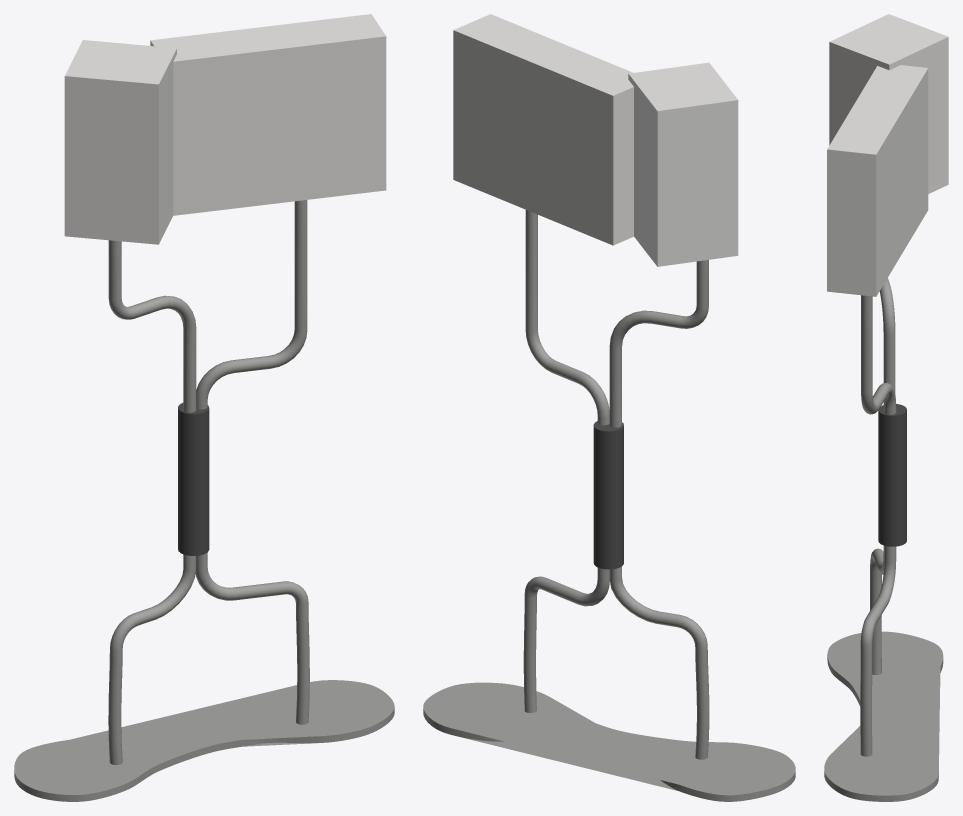
The model's file is A23DMOD_FBX.fbx.
3 renders of one model, left to right at view 1: azimuth 30°, elevation 25°; view 2: azimuth 150°, elevation 25°; view 3: azimuth 270°, elevation 25°, orthographic. The views are drawn at different scales.
Visible parts, largest first — view 1: A23DOBJ_001; view 2: A23DOBJ_001; view 3: A23DOBJ_001.
Boxes of the visible parts, <box> form: A23DOBJ_001: <box>14,14,394,801</box>; A23DOBJ_001: <box>423,14,795,801</box>; A23DOBJ_001: <box>824,14,948,801</box>.
Size of the model in its own units: 33.21 by 60.84 by 10.65.
3 materials, 3 textured.
